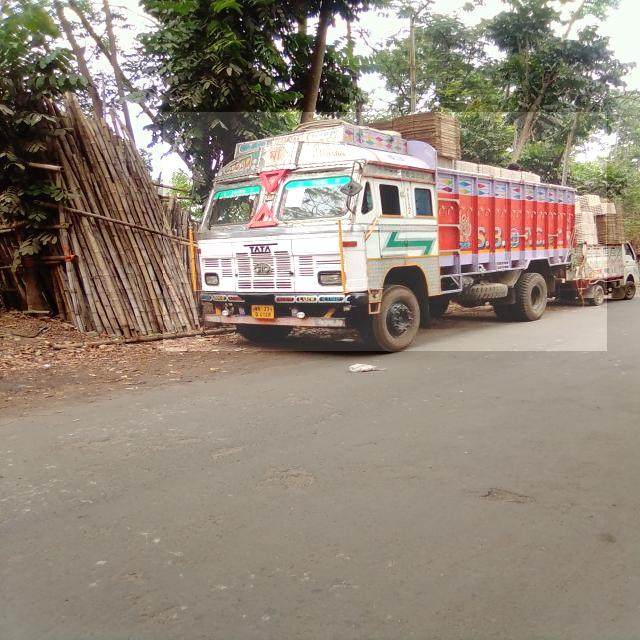Truck: (163, 112, 608, 351)
